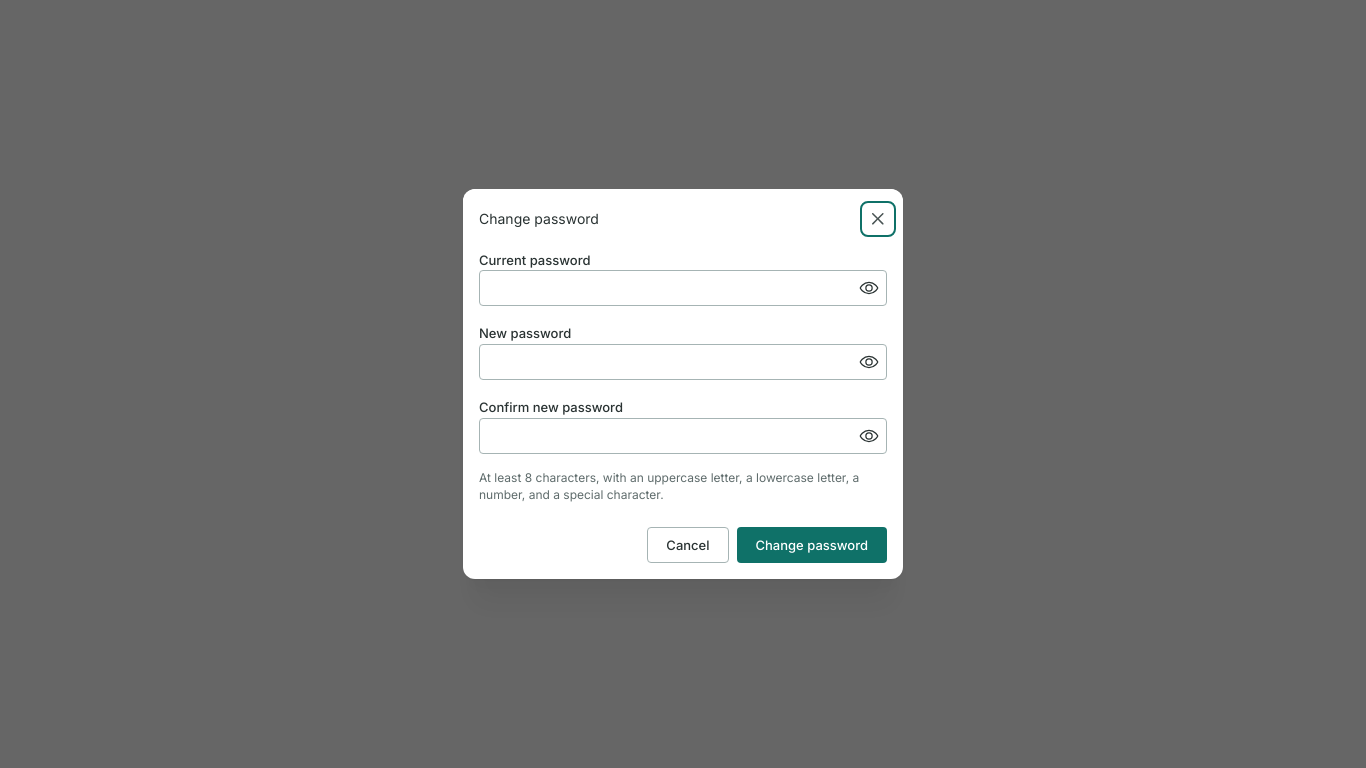
Test: ChangePasswordDialog › enforces the password policy before submitting
Step 1. Type "OldPass1!" into the password field labelled "Current password" → (683, 288), box [480,271,886,305]
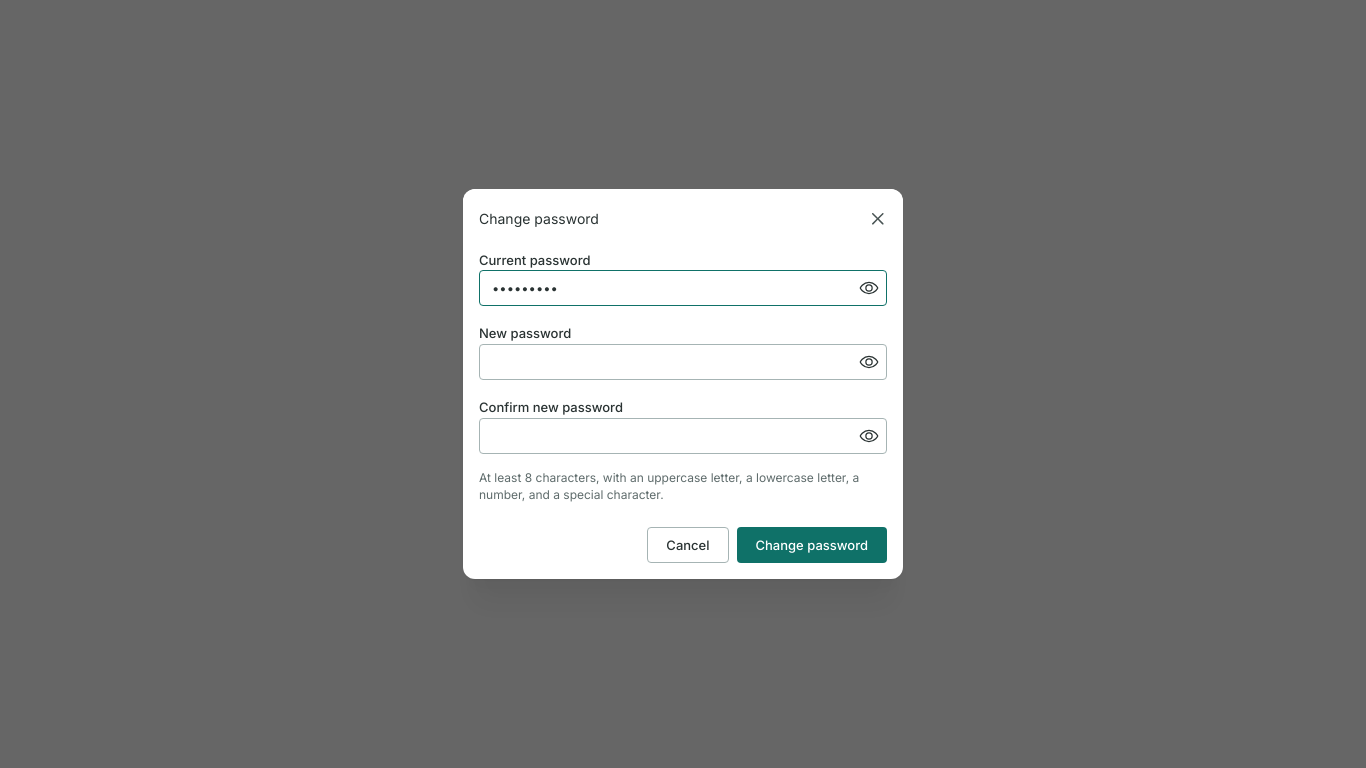
Step 2. Type "weak" into the password field labelled "New password" → (683, 362), box [480,345,886,379]
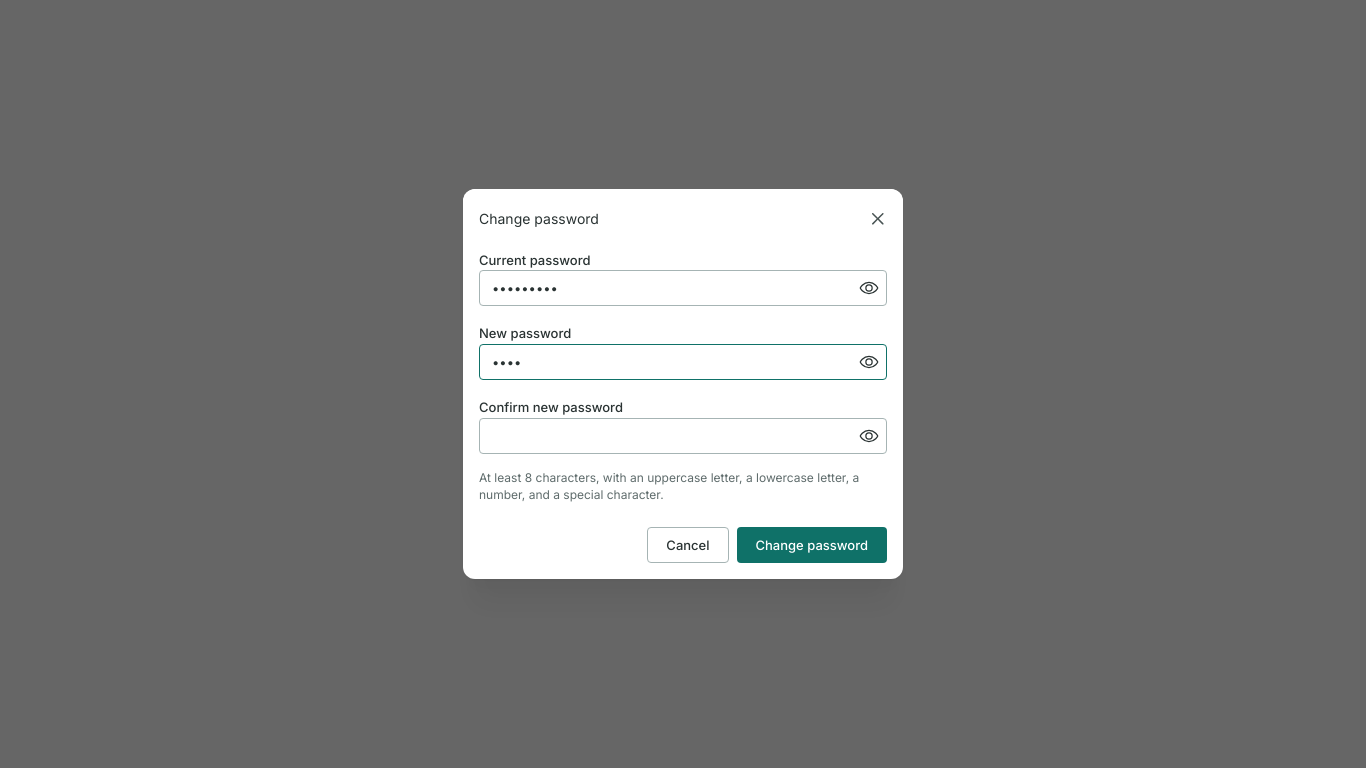
Step 3. Type "weak" into the password field labelled "Confirm new password" → (683, 436), box [480,419,886,453]
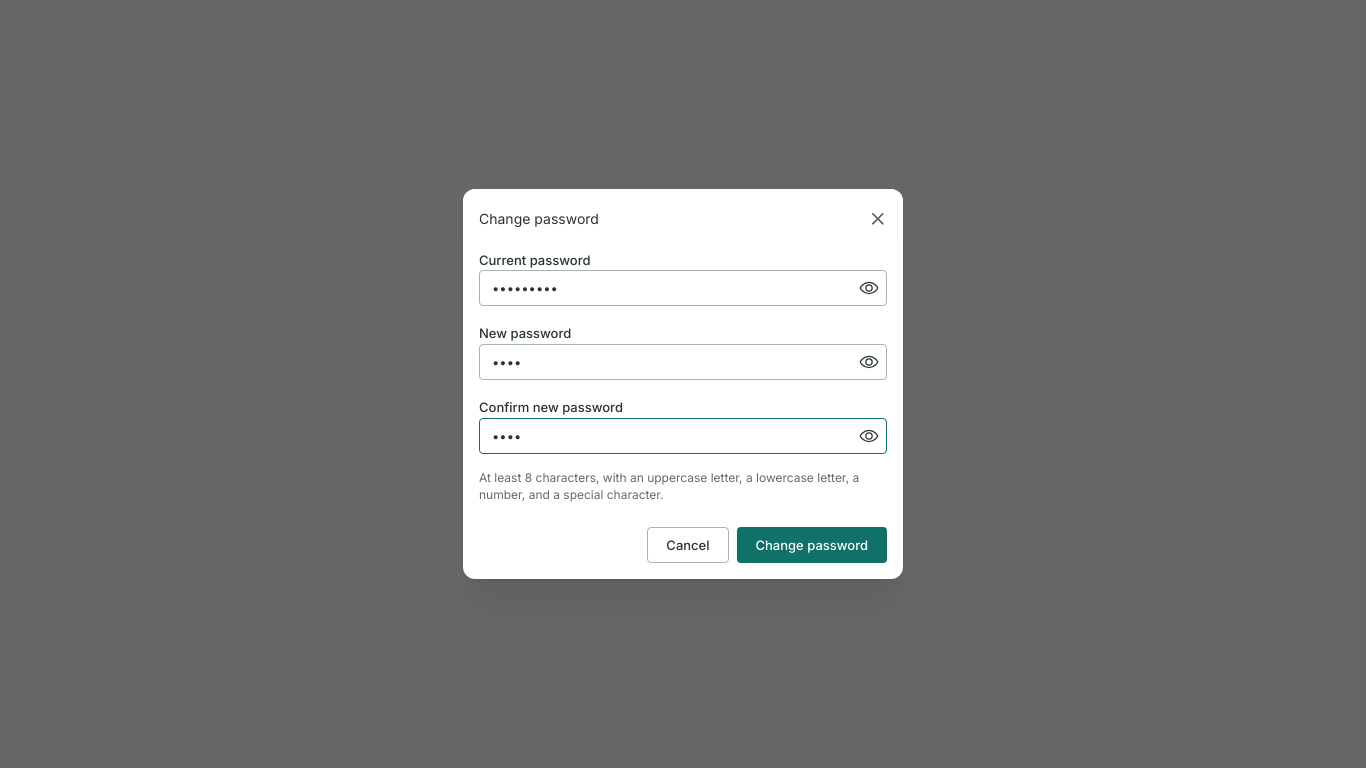
Step 4. Click the button "Change password" → (812, 545), box [736,527,887,563]
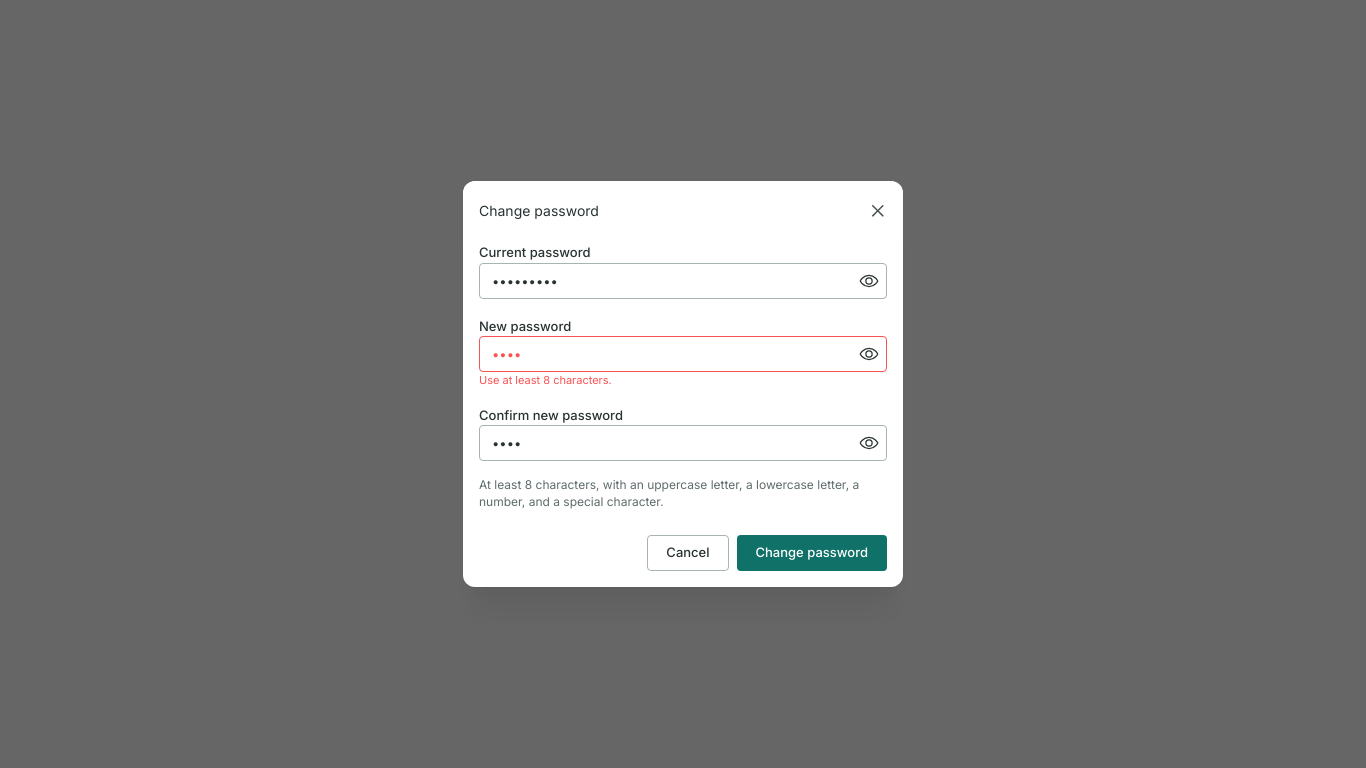
Check: the text "Use at least 8 characters." is shown, box [479,374,612,388]
